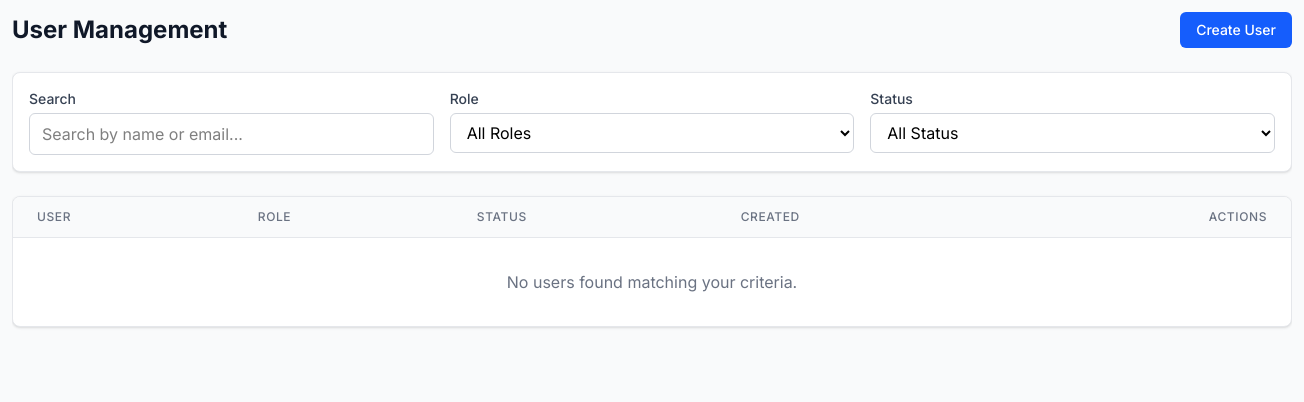
Test: UserList › Filtering › filters users by search term
In the field with placeholder "Search by name or email...": (231, 134) [29,113,434,155], type "john"
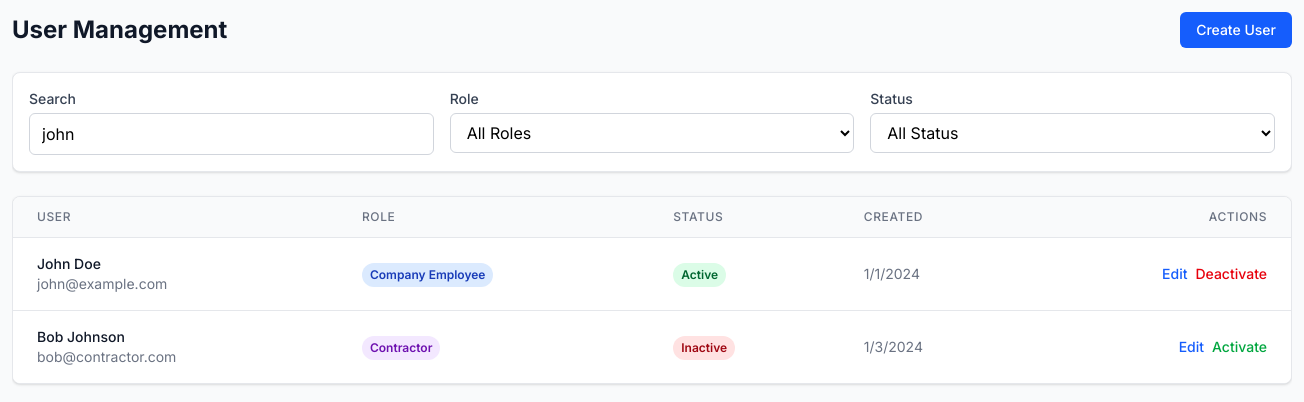
Now the text "john@example.com" is shown, box [37,275,167,292]
Now the text "bob@contractor.com" is shown, box [37,348,176,365]
